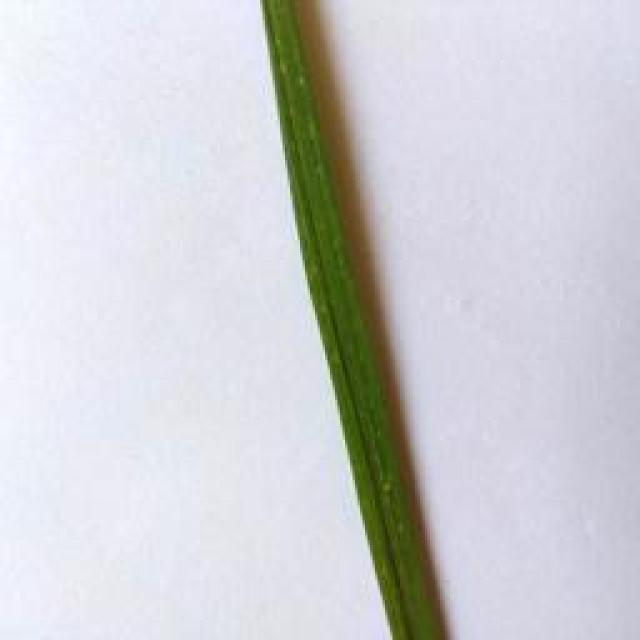Healthy-Plant: (258, 4, 428, 640)
